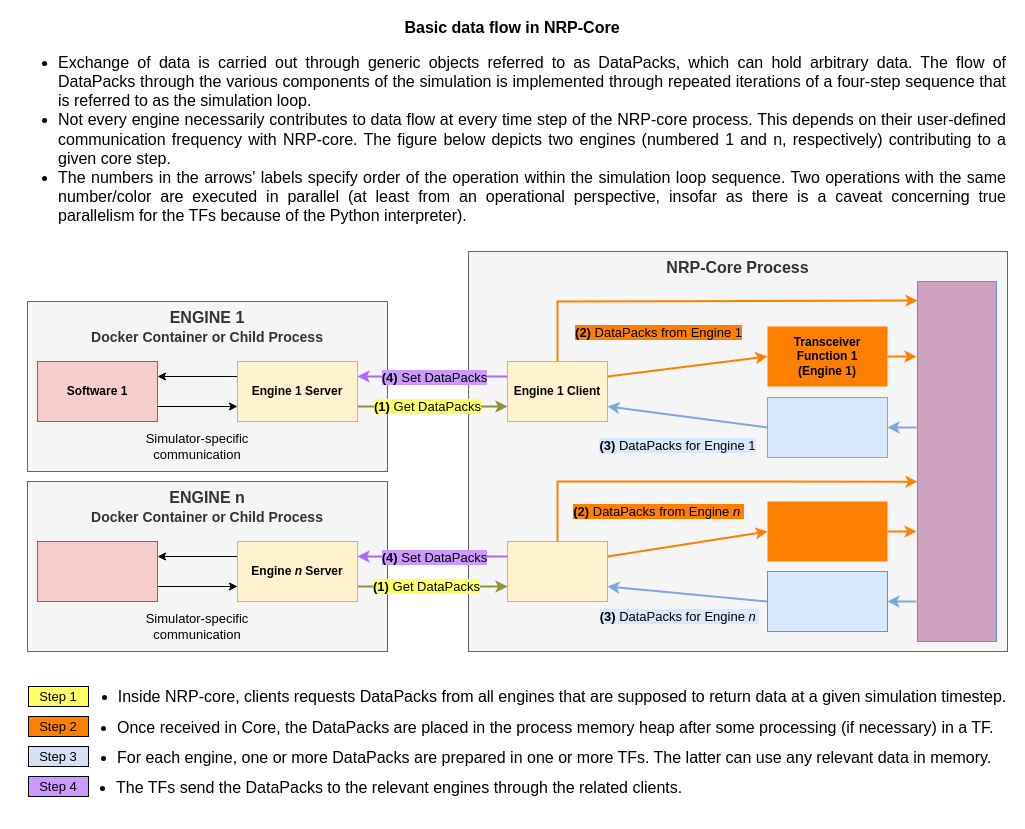
Some shapes in this 1025 by 829 pixel diagram are drawn without their labels. Each missing label, with the centre of its shape:
Engine n Client: the point at 557,571
MEMORY HEAP: the point at 956,461
Software n: the point at 97,571
Transceiver Function 2 (Engine 1): the point at 827,427
Transceiver Function 3 (Engine n ): the point at 827,531
Transceiver Function 4 (Engine n ): the point at 827,601
